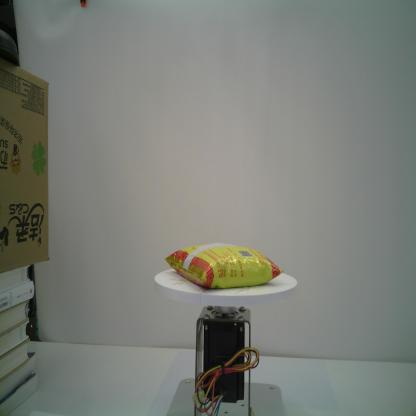Seasoner: (164, 241, 286, 291)
